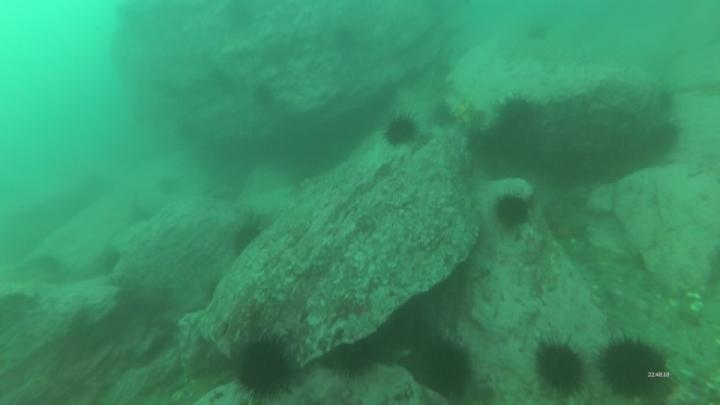echinus: (595, 331, 673, 404), (229, 334, 303, 405), (411, 331, 475, 400), (531, 335, 590, 400), (331, 338, 380, 387), (495, 94, 540, 144), (490, 191, 534, 234), (645, 121, 683, 160), (382, 113, 421, 151), (232, 224, 264, 260), (250, 81, 278, 114), (431, 99, 459, 130), (334, 26, 359, 58), (527, 25, 549, 45)
